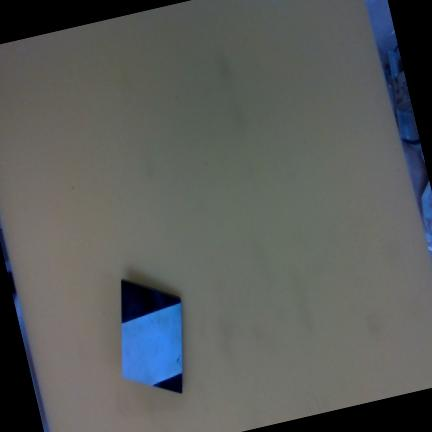tile: (121, 279, 183, 395)
